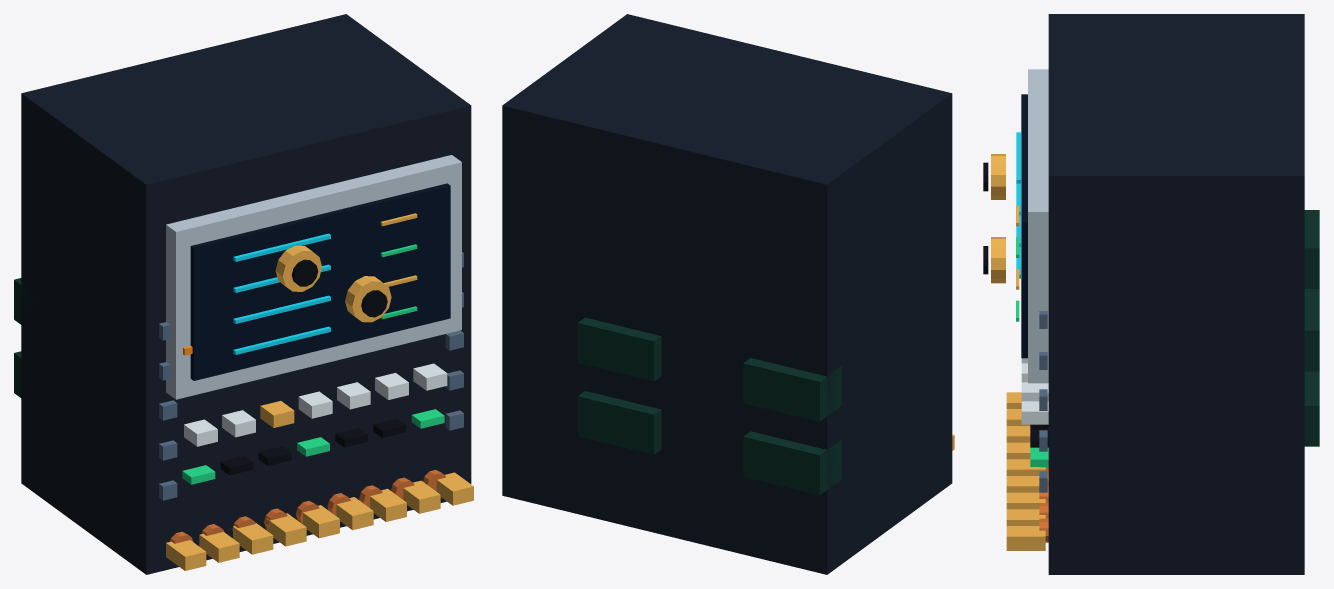
The model's file is 79_L91_Protected5VControlSupply.fbx.
3 views of the same model, side by side, from view 1: azimuth 30°, elevation 25°; view 2: azimuth 150°, elevation 25°; view 3: azimuth 270°, elevation 25° (orthographic). The views are drawn at different scales.
Parts seen in each view (by area): view 1: L91_Protected5VControlSupply, L91_Protected5VControlSupply_Part_0015, L91_Protected5VControlSupply_Part_0013; view 2: L91_Protected5VControlSupply; view 3: L91_Protected5VControlSupply, L91_Protected5VControlSupply_Part_0015, L91_Protected5VControlSupply_Part_0013.
Boxes of the visible parts, x1,y1,x2,y2 form: L91_Protected5VControlSupply: (14,14,473,574); L91_Protected5VControlSupply_Part_0015: (345,276,391,322); L91_Protected5VControlSupply_Part_0013: (275,245,321,291); L91_Protected5VControlSupply: (502,14,954,574); L91_Protected5VControlSupply: (1006,14,1319,574); L91_Protected5VControlSupply_Part_0015: (991,237,1005,283); L91_Protected5VControlSupply_Part_0013: (991,154,1005,199).
Bounding box in the file's own units: 108 × 123 × 94.29.
